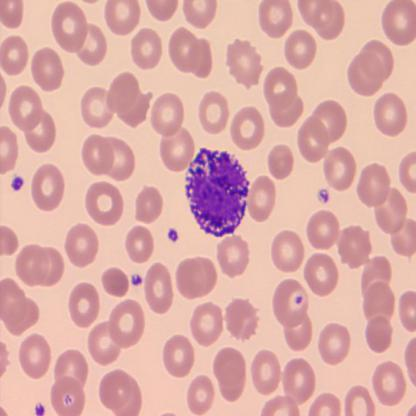Basophil: (182, 145, 252, 239)
